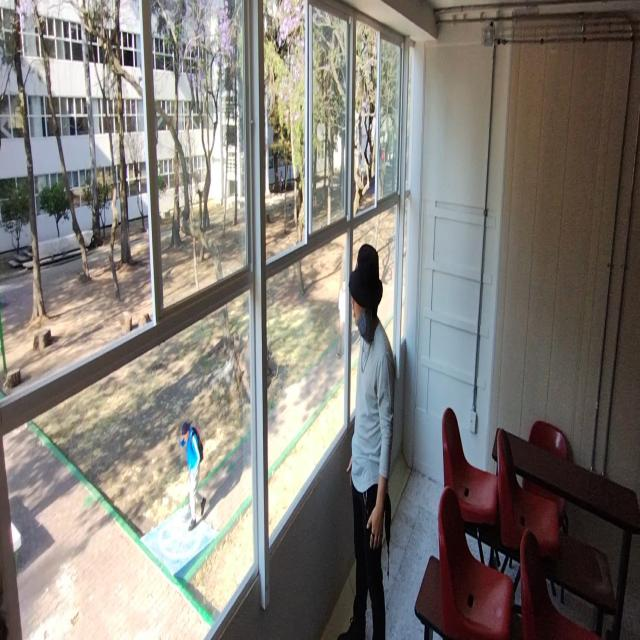adult: (338, 239, 394, 640), (179, 420, 205, 535)
